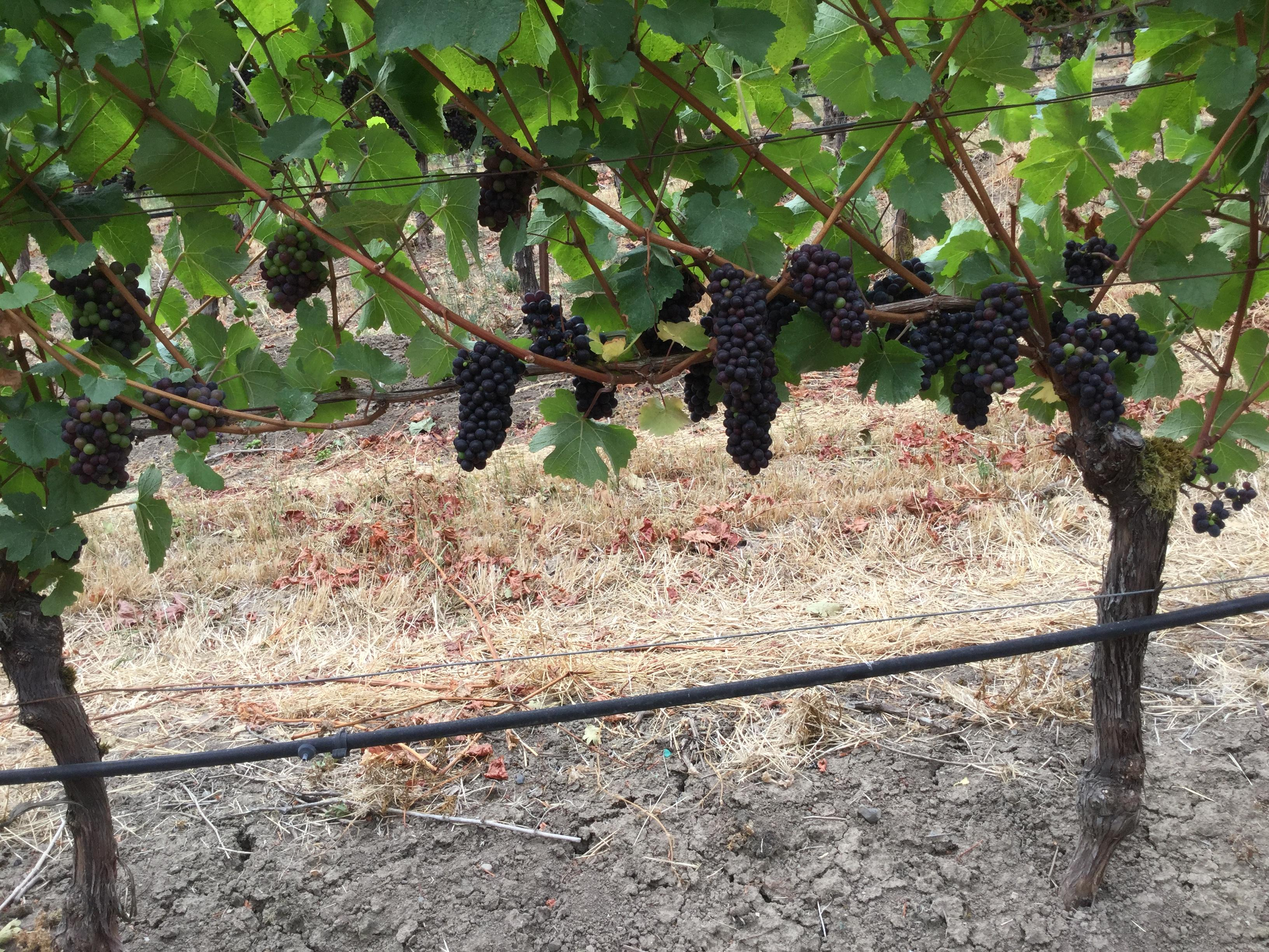leaf: (530, 389, 636, 485), (131, 121, 241, 205), (374, 0, 524, 59), (803, 4, 873, 115), (0, 493, 85, 574), (955, 10, 1035, 89), (176, 211, 250, 296), (419, 178, 479, 280), (159, 97, 239, 163), (2, 392, 67, 467), (857, 333, 924, 404), (710, 6, 784, 63), (321, 198, 410, 245), (558, 0, 634, 54), (185, 7, 241, 80), (684, 191, 756, 247), (332, 340, 407, 389), (640, 0, 713, 44), (260, 116, 330, 161), (132, 496, 172, 571), (172, 433, 224, 490), (75, 22, 142, 66), (405, 326, 456, 383), (235, 346, 284, 405), (873, 54, 931, 102), (33, 562, 83, 617), (1235, 327, 1268, 392), (185, 312, 227, 363), (638, 395, 690, 436), (1156, 399, 1203, 441), (47, 242, 97, 275), (656, 321, 709, 350), (79, 374, 126, 404), (277, 386, 317, 420), (406, 0, 408, 1), (252, 133, 253, 134), (108, 368, 114, 368), (275, 127, 275, 128)
